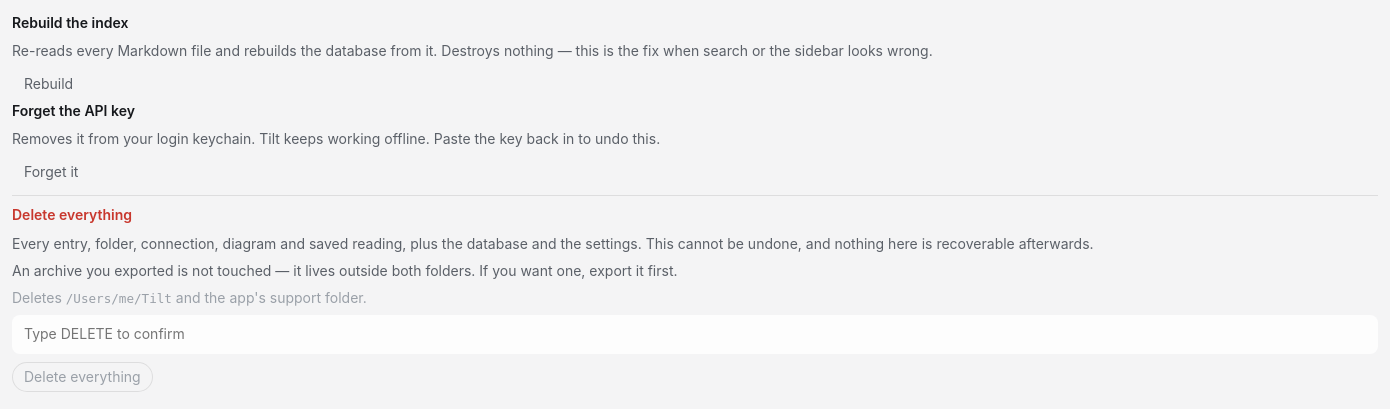
Test: Danger › offers the harmless rebuild above the line, and reports it
Step 1. Click the button "Rebuild" → (49, 84), box [12, 69, 85, 100]
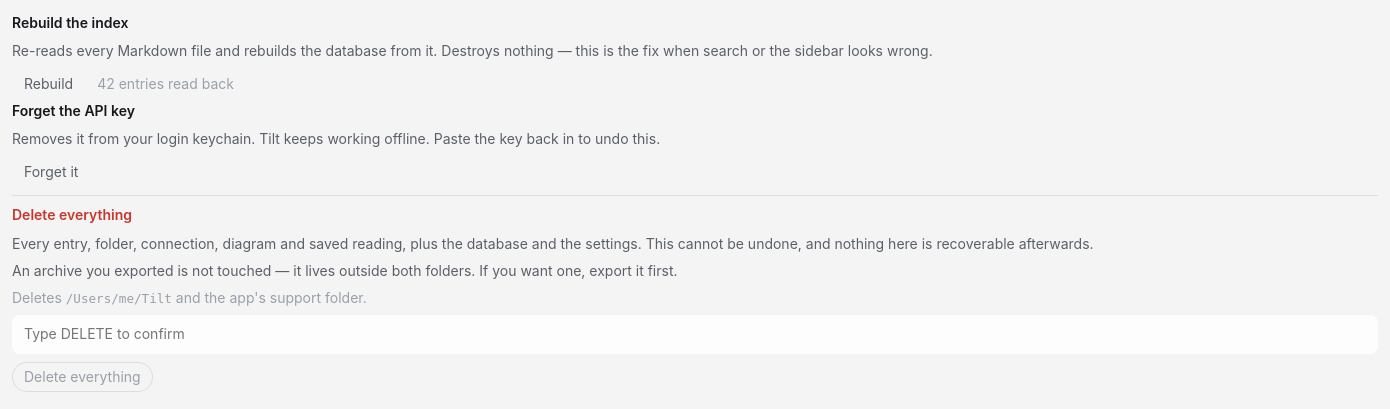
Check: the text "42 entries read back" is shown, box [97, 75, 234, 94]
